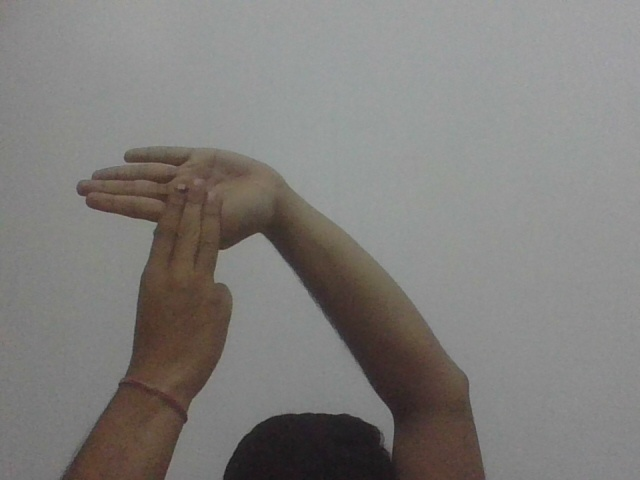M: (70, 142, 283, 323)
